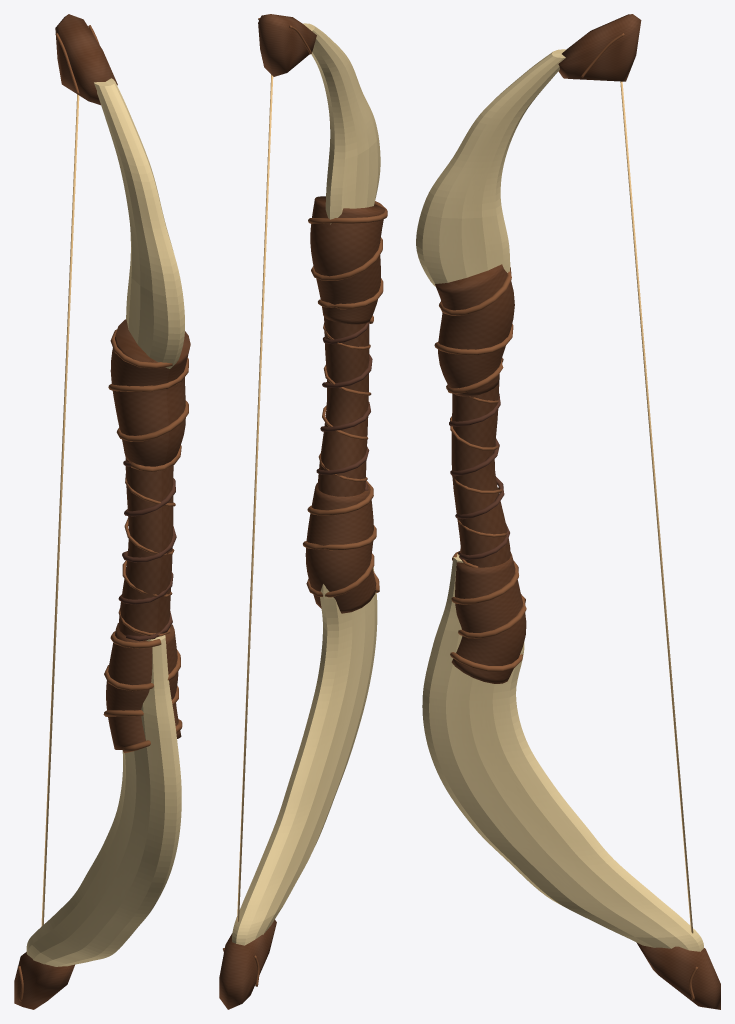
File: hunter_bow.glb
The picture shows the model from 3 angles, left to right: view 1: azimuth 30°, elevation 25°; view 2: azimuth 150°, elevation 25°; view 3: azimuth 270°, elevation 25°; orthographic projection. The views are drawn at different scales.
Visible parts, largest first — view 1: hunter_bow_game_mesh; view 2: hunter_bow_game_mesh; view 3: hunter_bow_game_mesh.
Part boxes in pixels (<box>): hunter_bow_game_mesh: <box>14,14,190,1009</box>; hunter_bow_game_mesh: <box>219,14,387,1009</box>; hunter_bow_game_mesh: <box>416,14,720,1009</box>.
Bounding box in the file's own units: 0.1046 × 1.43 × 0.396.
1 material, 1 textured.
